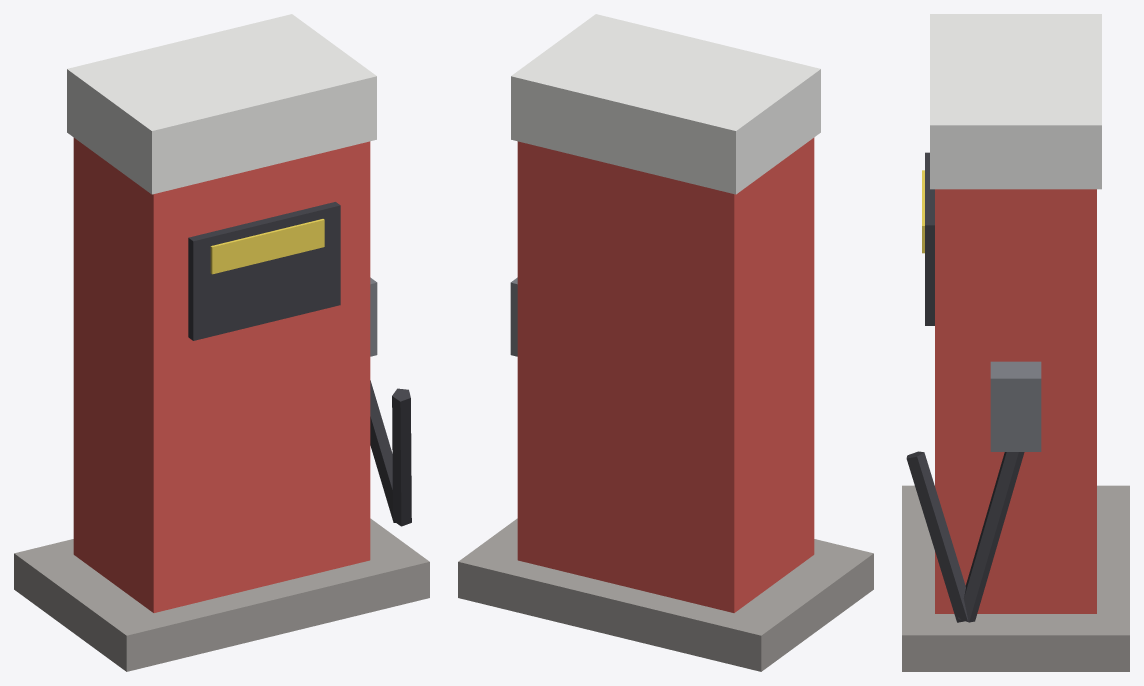
Rendered from zapfsaeule.glb.
The picture shows the model from 3 angles, left to right: view 1: azimuth 30°, elevation 25°; view 2: azimuth 150°, elevation 25°; view 3: azimuth 270°, elevation 25°; orthographic projection.
Visible parts, largest first — view 1: rot_1, weiss_2, stein_0, schwarz_3, gelb_4, schwarz_7, schwarz_6, metall_dunkel_5; view 2: rot_1, weiss_2, stein_0, metall_dunkel_5; view 3: rot_1, weiss_2, stein_0, metall_dunkel_5, schwarz_6, schwarz_7, schwarz_3.
Boxes of the visible parts, bbox=[...] form: rot_1: bbox=[73, 137, 370, 612]; weiss_2: bbox=[67, 14, 376, 194]; stein_0: bbox=[14, 518, 429, 671]; schwarz_3: bbox=[188, 202, 340, 340]; gelb_4: bbox=[210, 219, 324, 274]; schwarz_7: bbox=[392, 388, 411, 526]; schwarz_6: bbox=[370, 380, 396, 522]; metall_dunkel_5: bbox=[370, 277, 377, 356]; rot_1: bbox=[517, 137, 814, 612]; weiss_2: bbox=[511, 14, 820, 194]; stein_0: bbox=[458, 518, 873, 671]; metall_dunkel_5: bbox=[510, 277, 517, 356]; rot_1: bbox=[935, 189, 1096, 613]; weiss_2: bbox=[930, 14, 1101, 189]; stein_0: bbox=[902, 485, 1129, 671]; metall_dunkel_5: bbox=[990, 361, 1041, 451]; schwarz_6: bbox=[958, 452, 1024, 622]; schwarz_7: bbox=[906, 451, 968, 622]; schwarz_3: bbox=[925, 152, 934, 325].
Size of the model in its own units: 0.7289 by 1.15 by 0.45.
